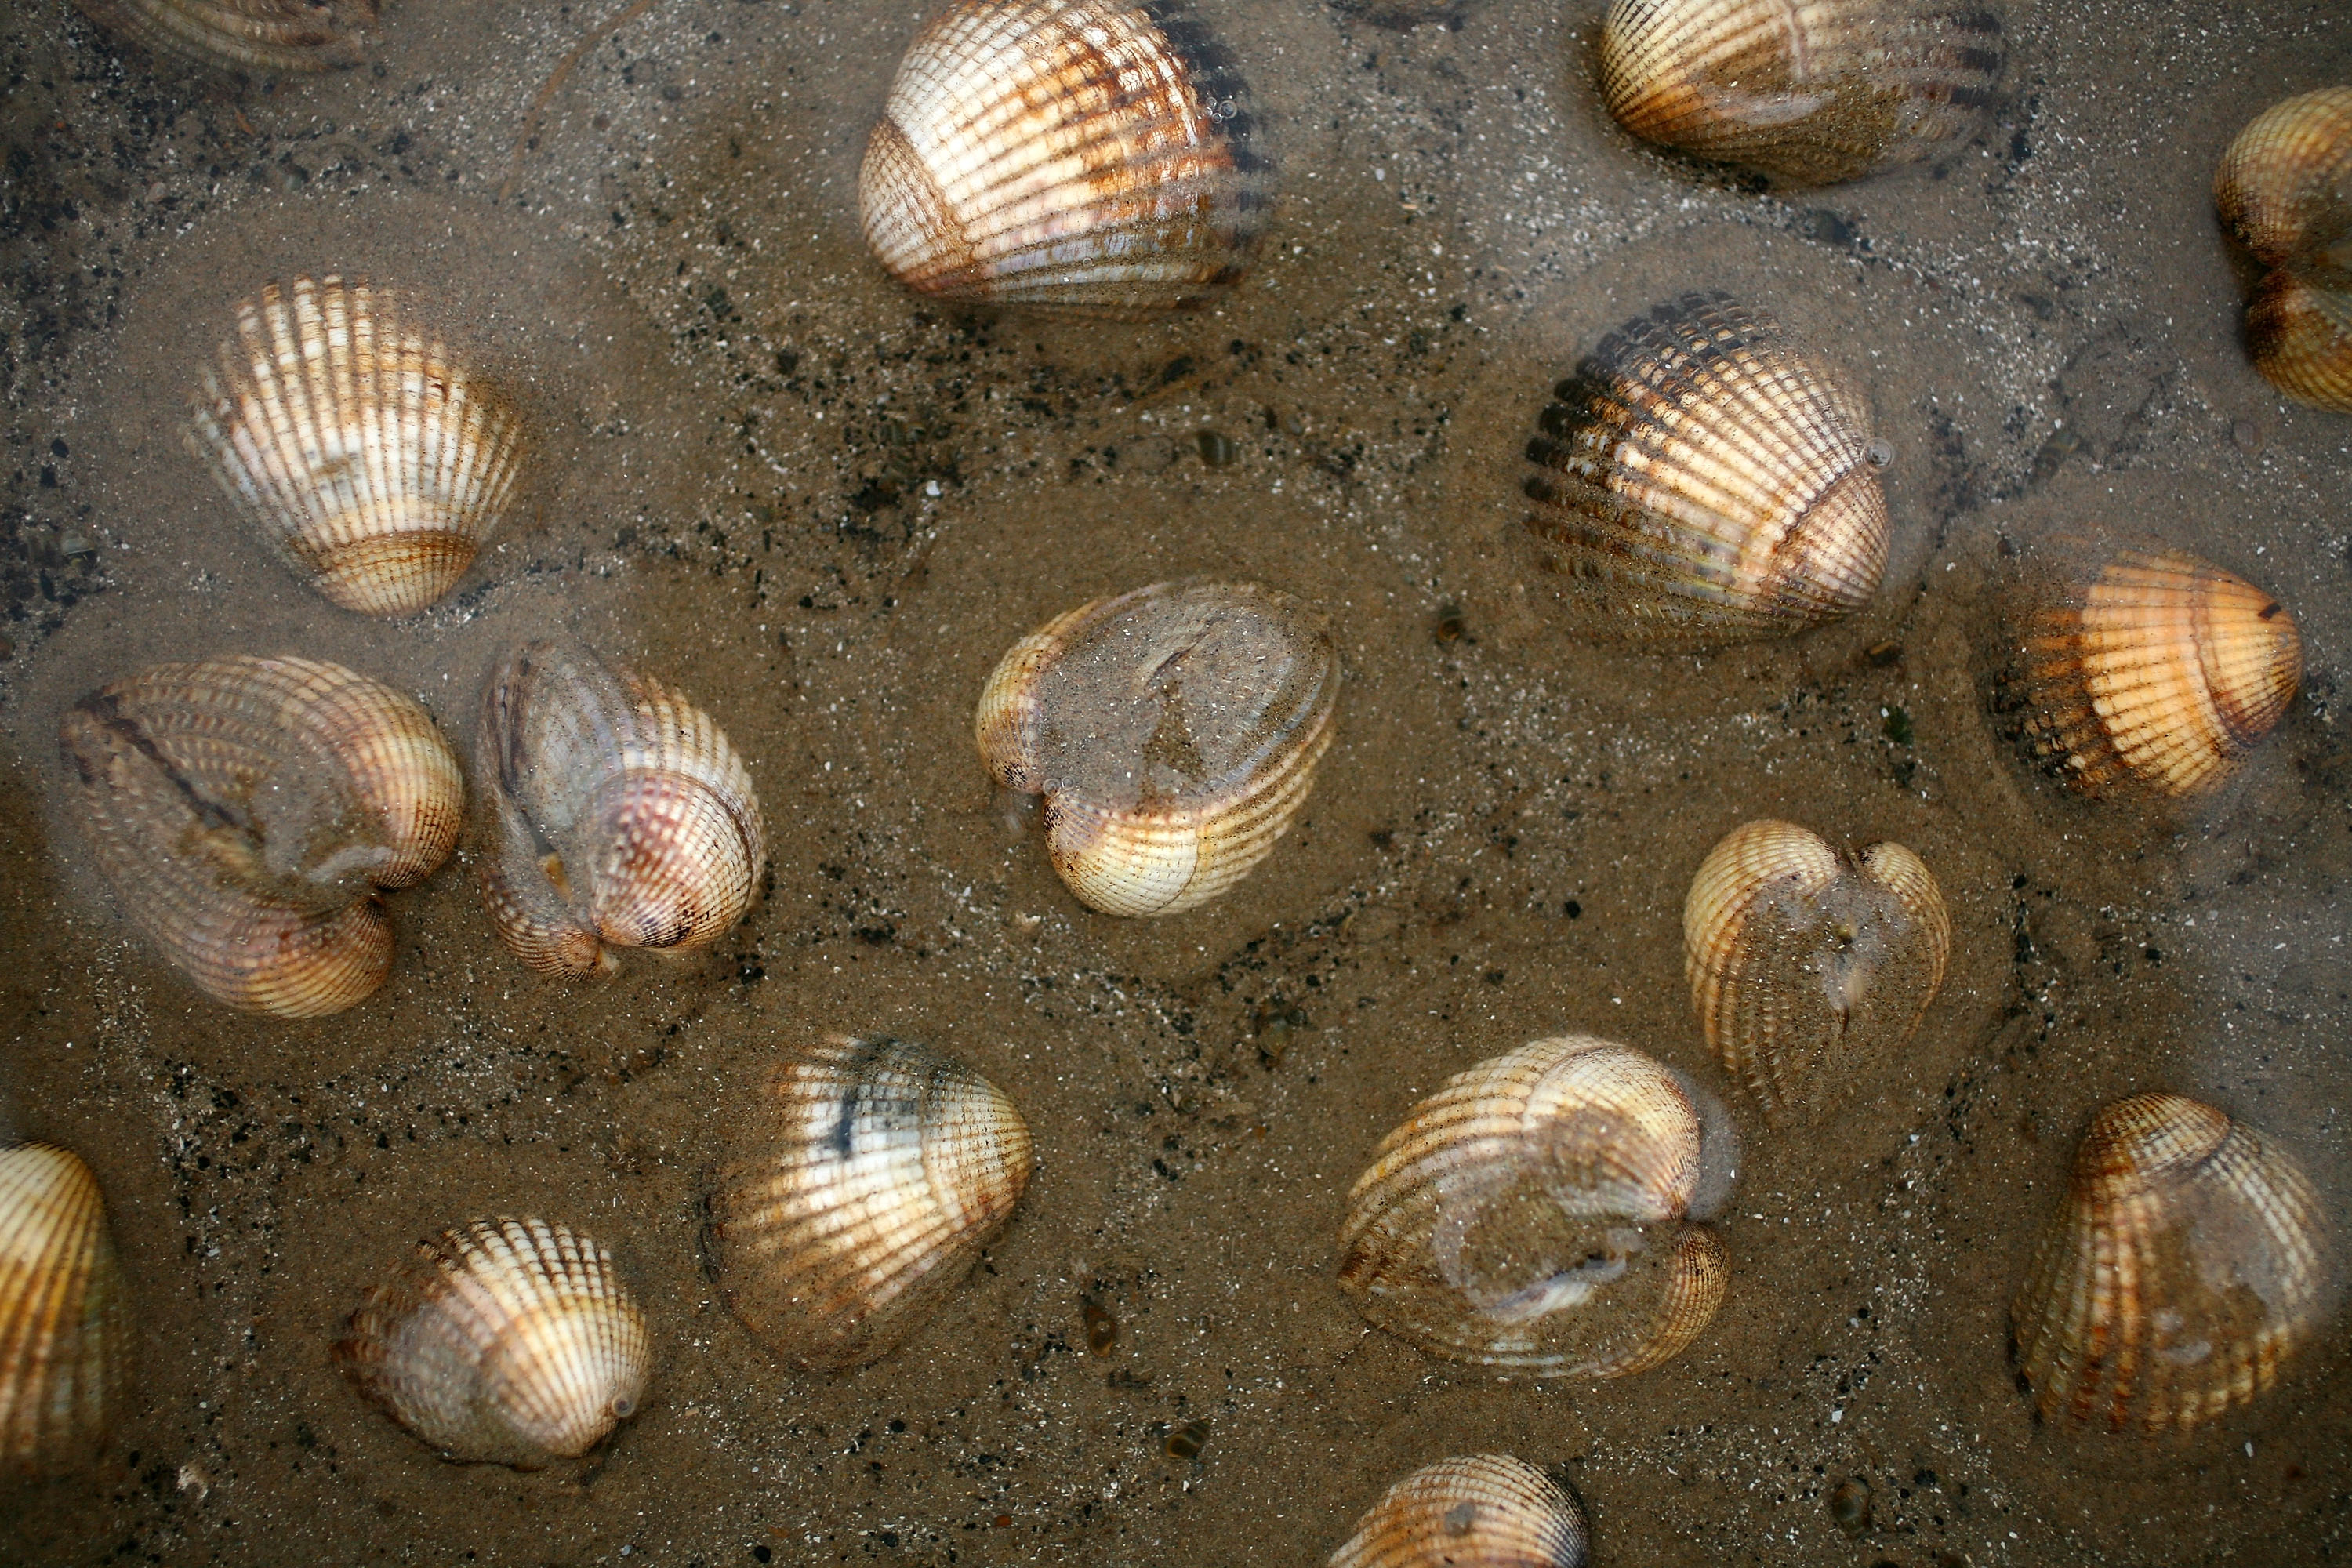cockle: (53, 647, 474, 1029), (1318, 1022, 1747, 1388), (1505, 269, 1904, 651), (859, 4, 1292, 325), (970, 569, 1342, 917), (184, 262, 537, 616), (700, 1027, 1043, 1381), (2005, 1087, 2329, 1456), (1971, 511, 2299, 870), (471, 630, 770, 996), (322, 1208, 667, 1477), (1668, 814, 1953, 1137), (1580, 0, 2030, 193), (2210, 54, 2352, 413), (5, 1134, 138, 1484), (1312, 1442, 1594, 1568)
